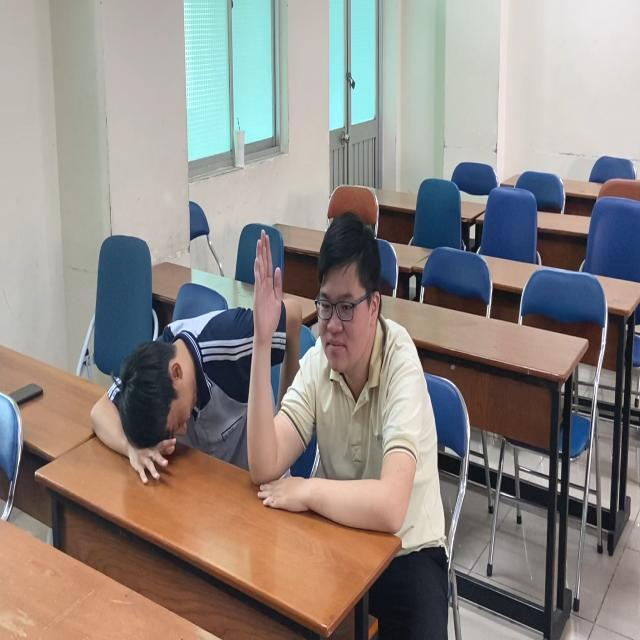raise_hand: (244, 212, 440, 546)
sleep: (88, 287, 268, 474)
